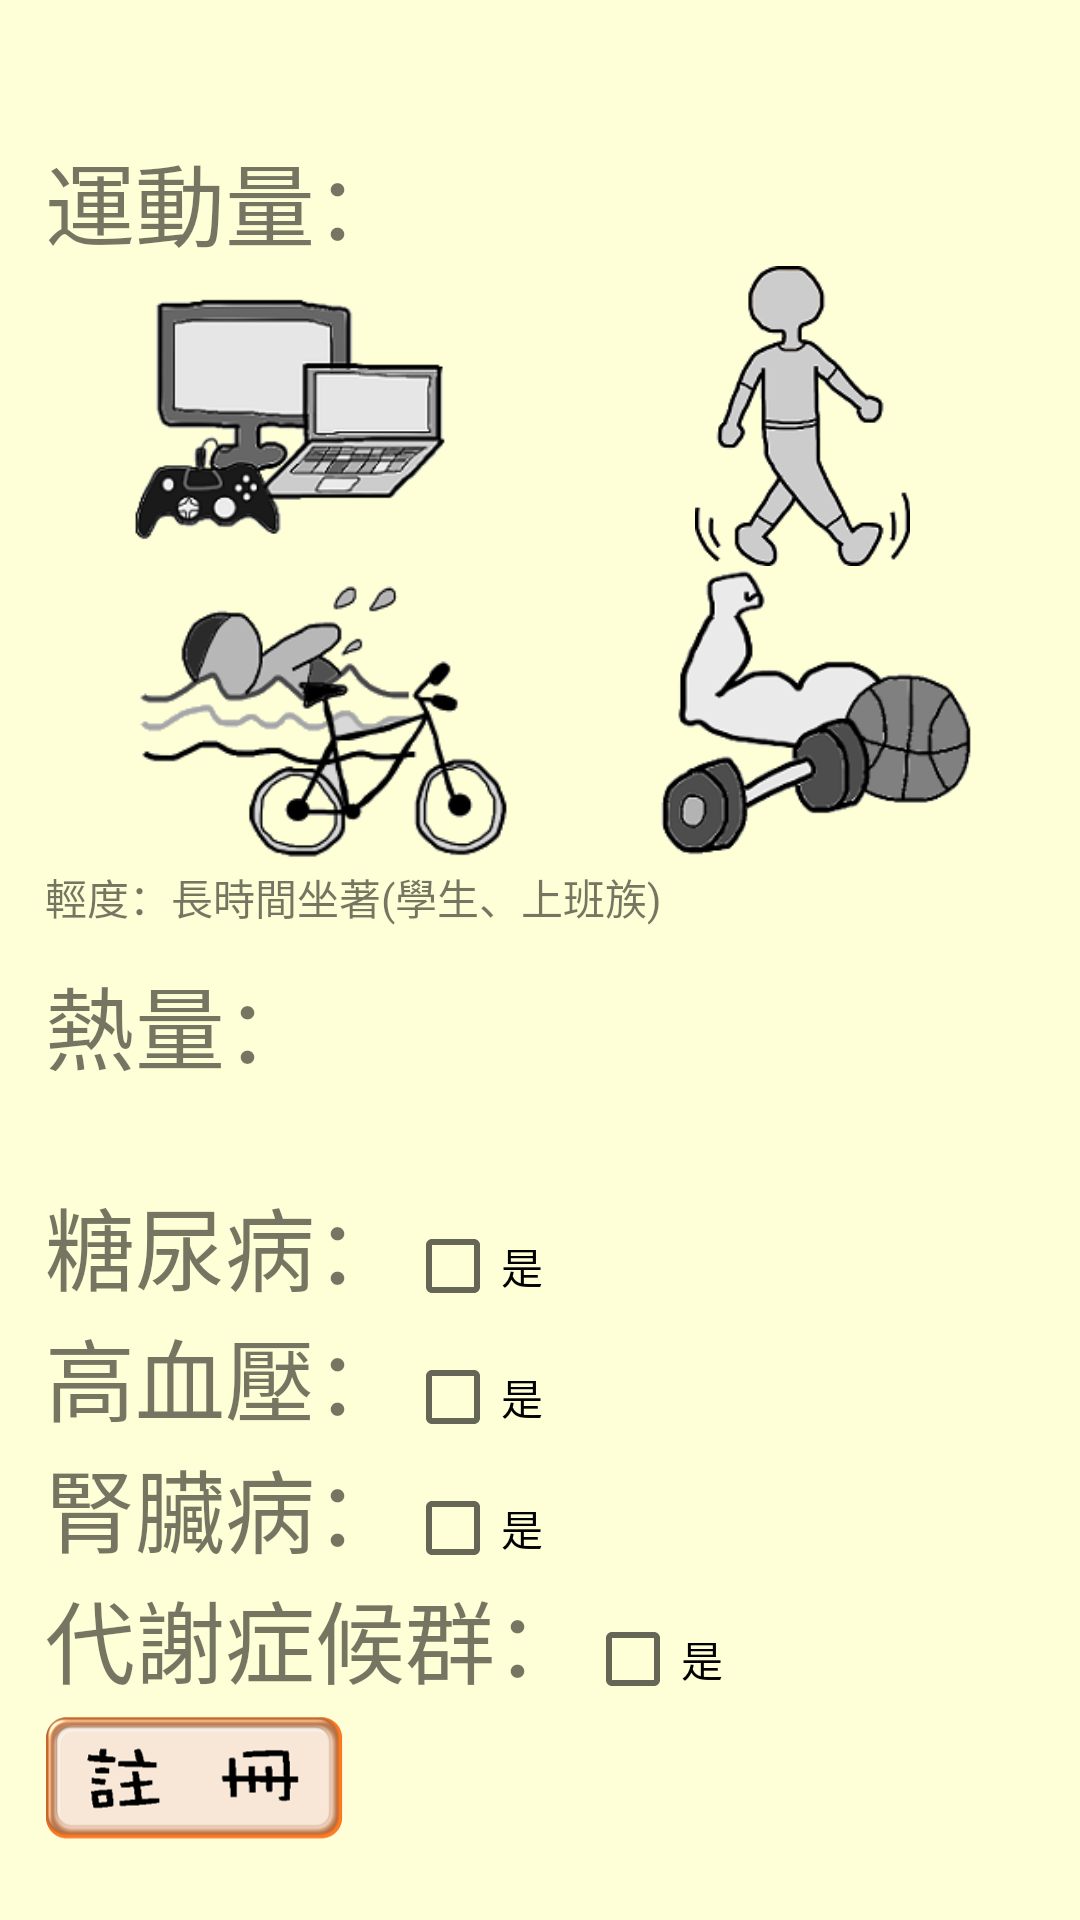

Where icons sit on this 1080x1920 app screen, as (x1, y1, x2, y2):
mildnochoice: (135, 299, 445, 539)
severenochoice: (661, 571, 971, 855)
walknochoice: (695, 266, 910, 566)
